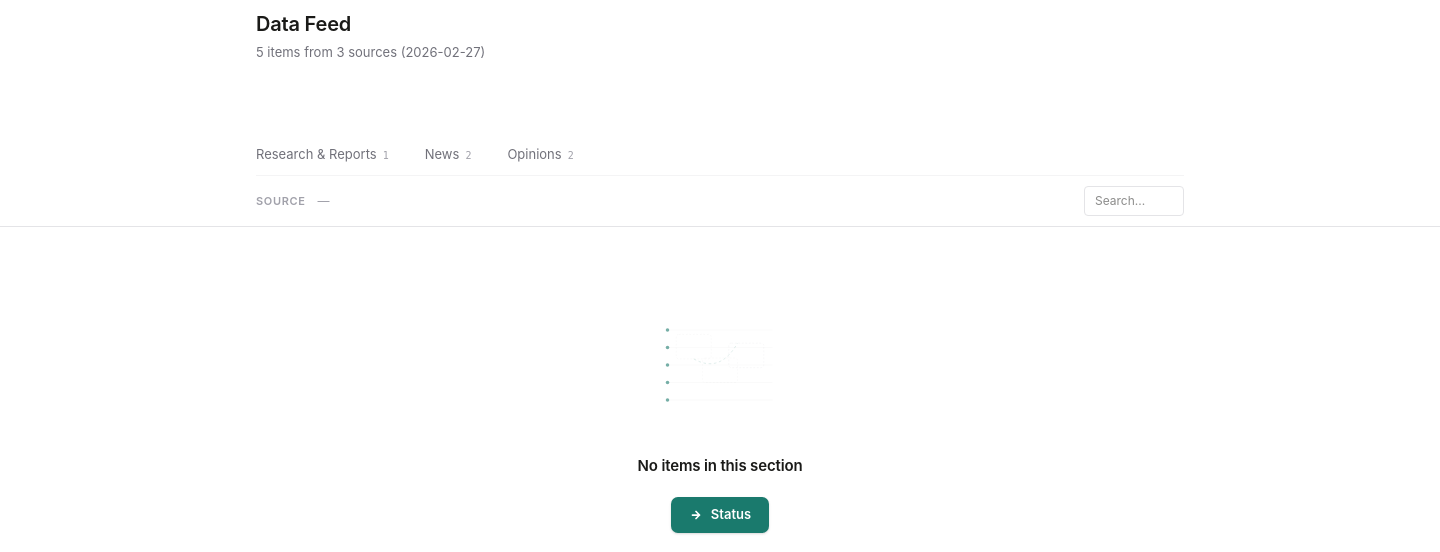
Data - group-based tabs › shows Feed label for groups containing rss_feeds
Click the button "Opinions2" at (541, 155), box [491, 134, 590, 176]
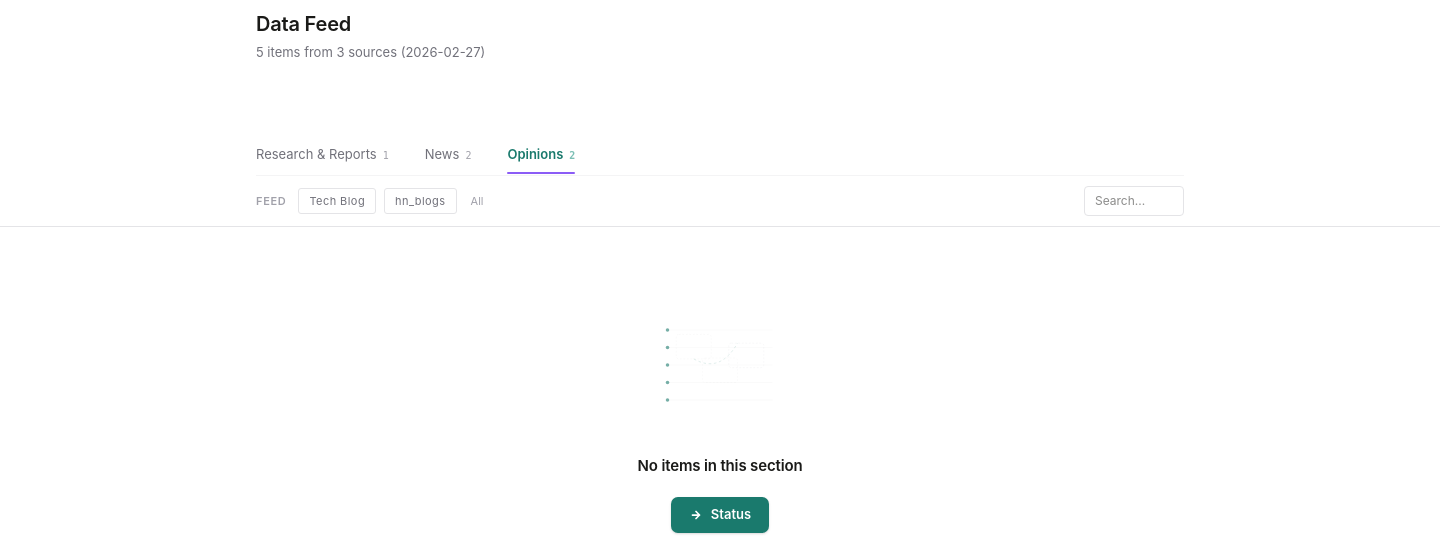
Now the text "Feed" is shown, box [256, 192, 286, 209]
